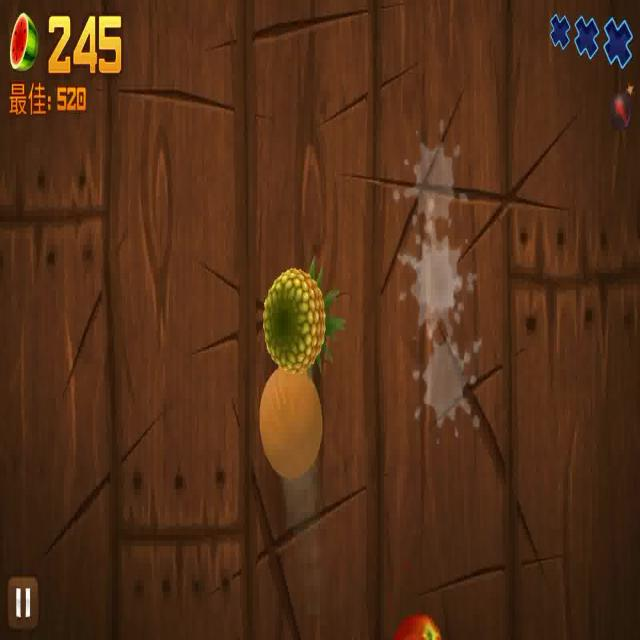fruit: (256, 248, 344, 375), (259, 369, 329, 476), (388, 612, 452, 640)
